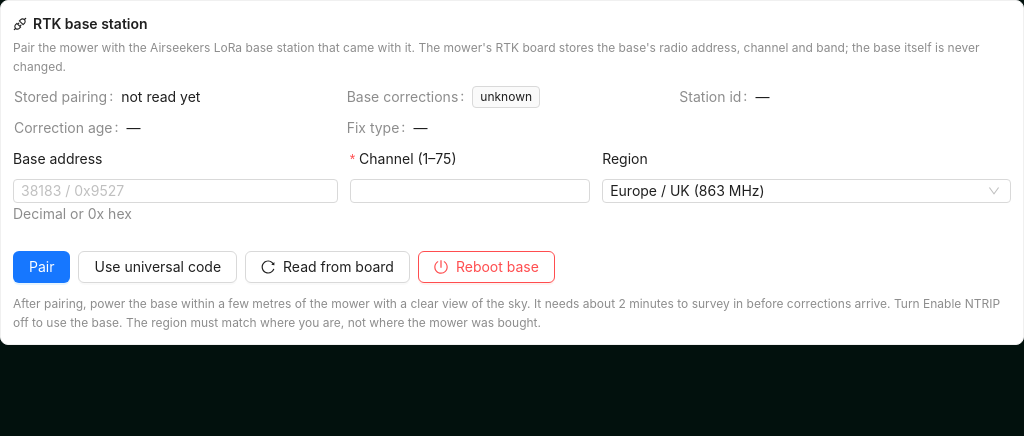
RtkBaseCard › reads the pairing from the board
The width and height of the screenshot is (1024, 436).
Click the button "Read from board": (328, 267) top-left (245, 251), bottom-right (410, 283)
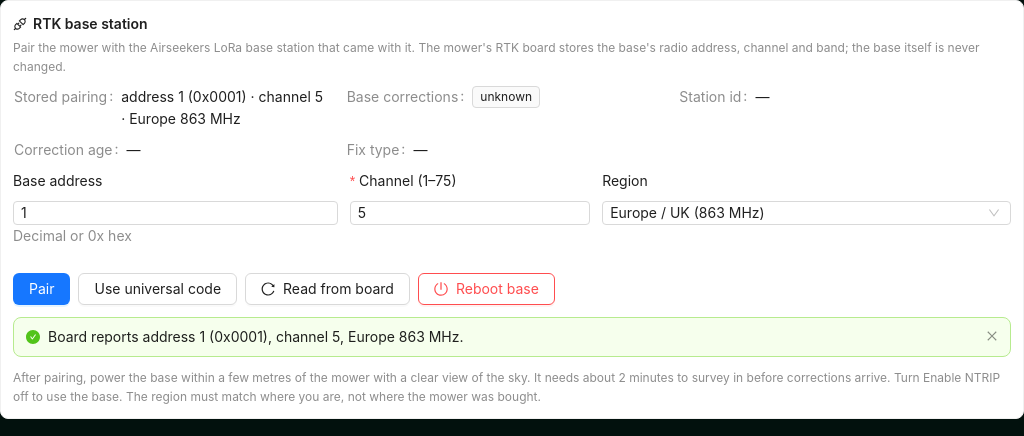
Expected: the text with test id "rtk-base-stored" reads "address 1 (0x0001) · channel 5 · Europe 863 MHz", top-left (121, 88), bottom-right (323, 127)
